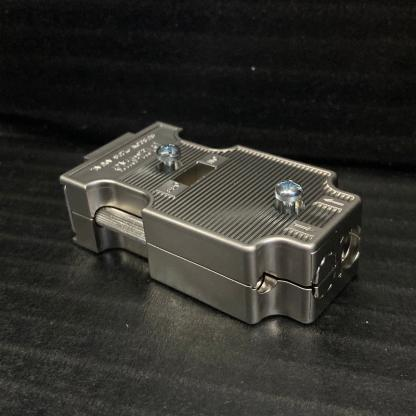SP0000010: (40, 96, 374, 350)
